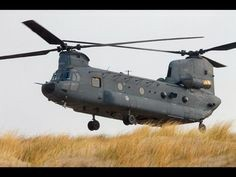chinook: (16, 22, 236, 130)
